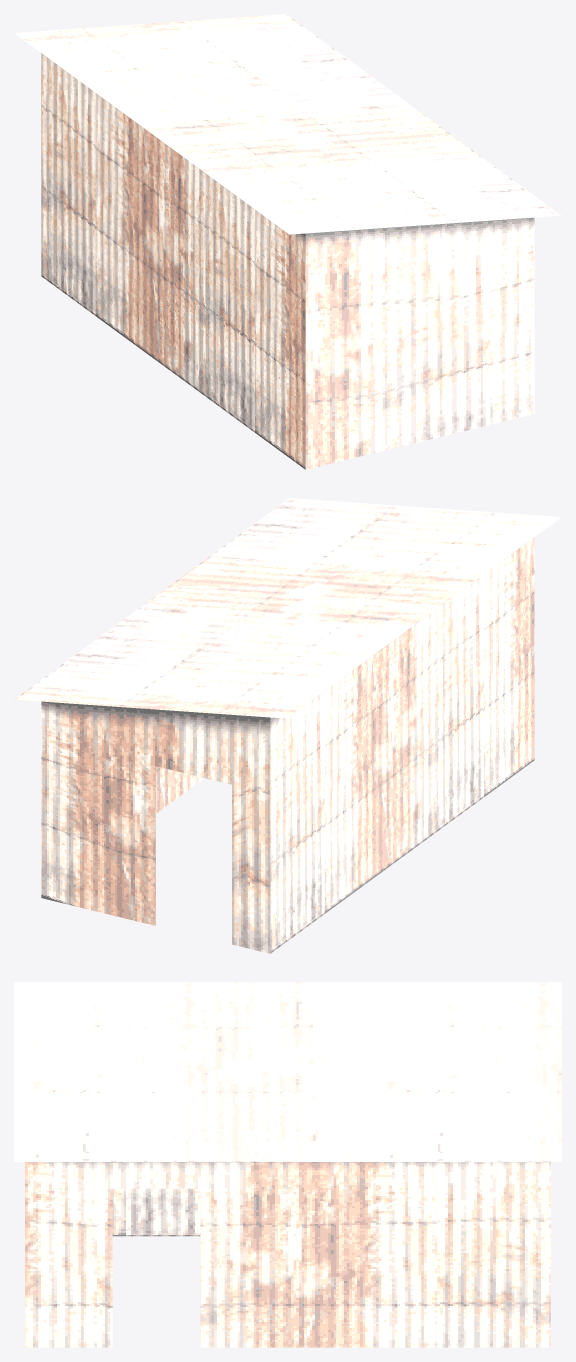
File: shackA.glb
The picture shows the model from 3 angles, top to bottom: view 1: azimuth 30°, elevation 25°; view 2: azimuth 150°, elevation 25°; view 3: azimuth 270°, elevation 25°; orthographic projection.
Parts seen in each view (by area): view 1: Shack A; view 2: Shack A; view 3: Shack A.
Part boxes in pixels (left/top/right/bottom): Shack A: left=14, top=14, right=561, bottom=469; Shack A: left=14, top=498, right=561, bottom=953; Shack A: left=14, top=982, right=561, bottom=1347.
Bounding box in the file's own units: 3.57 × 3.06 × 6.25.
